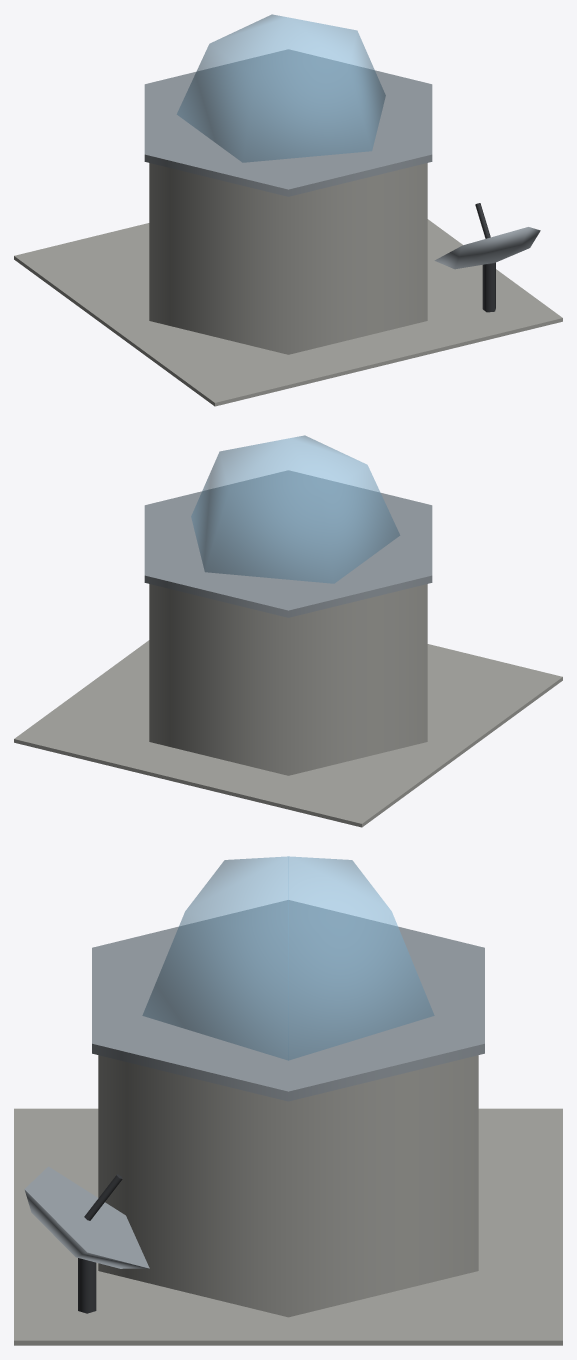
File: bld_special_research_center_a06_lod2.glb
3 renders of one model, top to bottom at view 1: azimuth 30°, elevation 25°; view 2: azimuth 150°, elevation 25°; view 3: azimuth 270°, elevation 25°, orthographic. The views are drawn at different scales.
Visible parts, largest first — view 1: body, antenna; view 2: body; view 3: body, antenna.
Part boxes in pixels (x1,y1,x2,y2): body: (14,14,562,406); antenna: (434,203,540,312); body: (14,435,562,827); body: (14,856,562,1345); antenna: (24,1166,149,1313).
Bounding box in the file's own units: 15.2 × 11.25 × 15.
